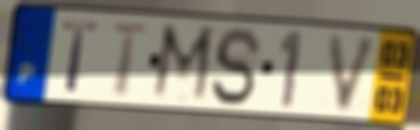1: (276, 28, 305, 112)
M: (148, 21, 218, 107)
S: (208, 25, 265, 110)
T: (108, 20, 151, 99), (60, 19, 101, 95)
V: (326, 32, 382, 115)
